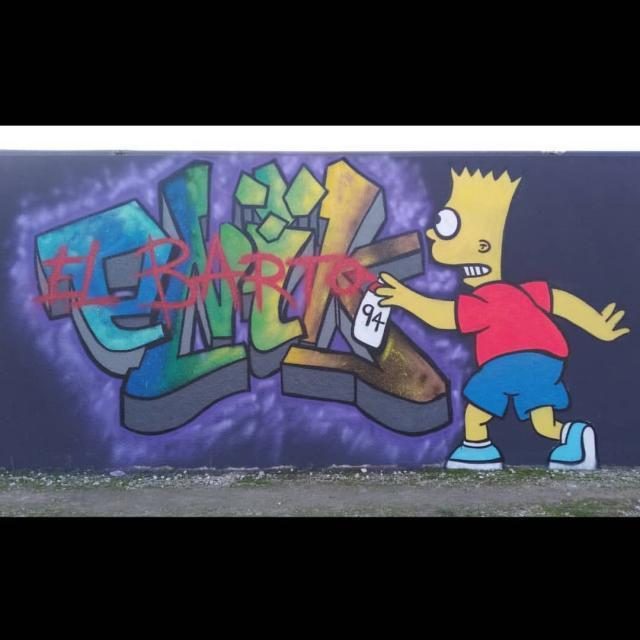-: (19, 151, 468, 436), (375, 162, 628, 468), (362, 297, 386, 337)
